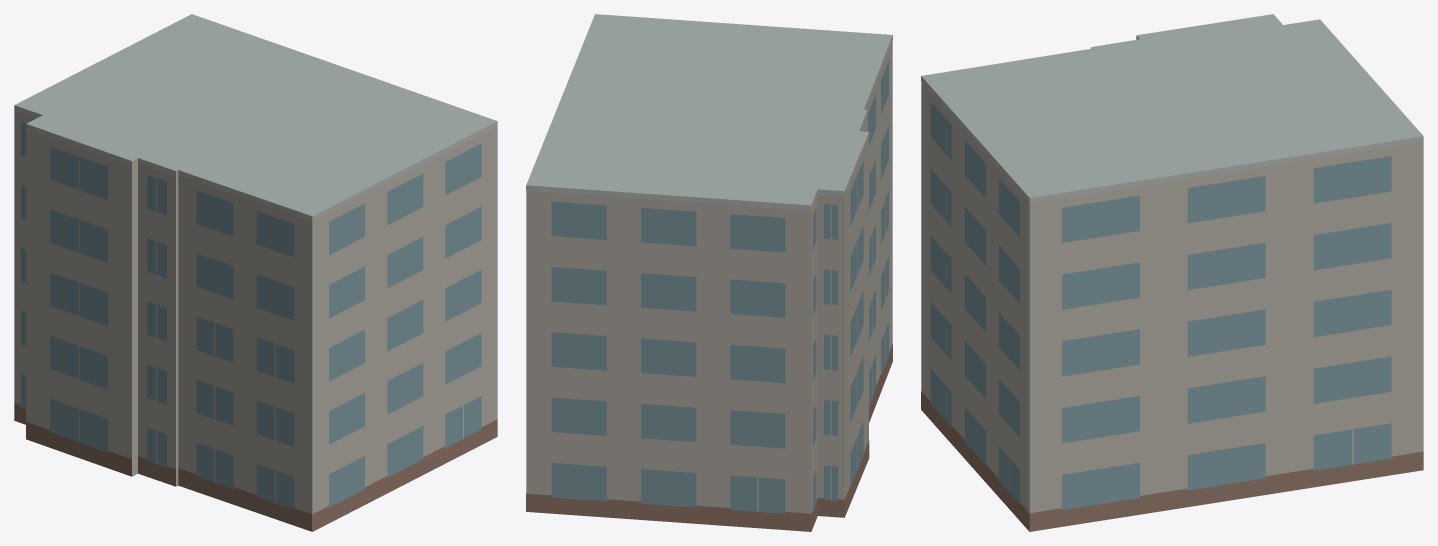
File: survey-upis-32859388.glb
3 views of the same model, side by side, from view 1: azimuth 30°, elevation 25°; view 2: azimuth 150°, elevation 25°; view 3: azimuth 270°, elevation 25° (orthographic). The views are drawn at different scales.
Parts seen in each view (by area): view 1: survey-upis-32859388.tmp; view 2: survey-upis-32859388.tmp; view 3: survey-upis-32859388.tmp.
Boxes of the visible parts, x1,y1,x2,y2 form: survey-upis-32859388.tmp: (14, 14, 497, 531); survey-upis-32859388.tmp: (526, 14, 892, 531); survey-upis-32859388.tmp: (921, 14, 1423, 531).
Size of the model in its own units: 17.32 by 14.65 by 19.99.
